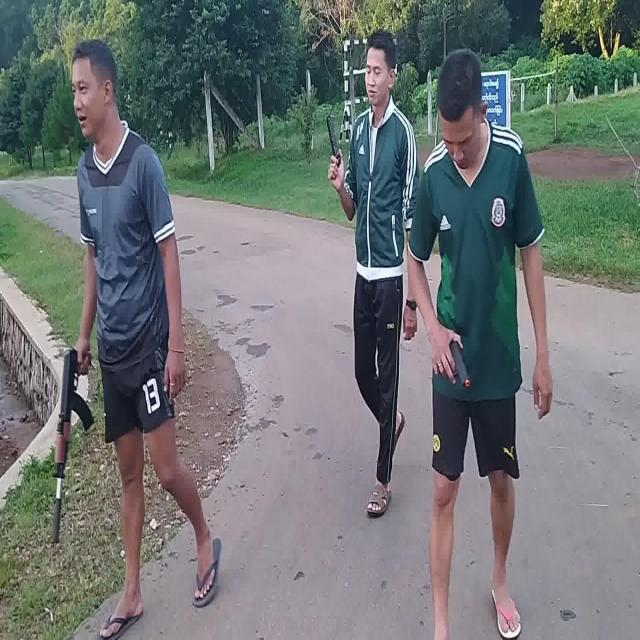gun: (52, 350, 94, 542), (437, 341, 471, 387)
